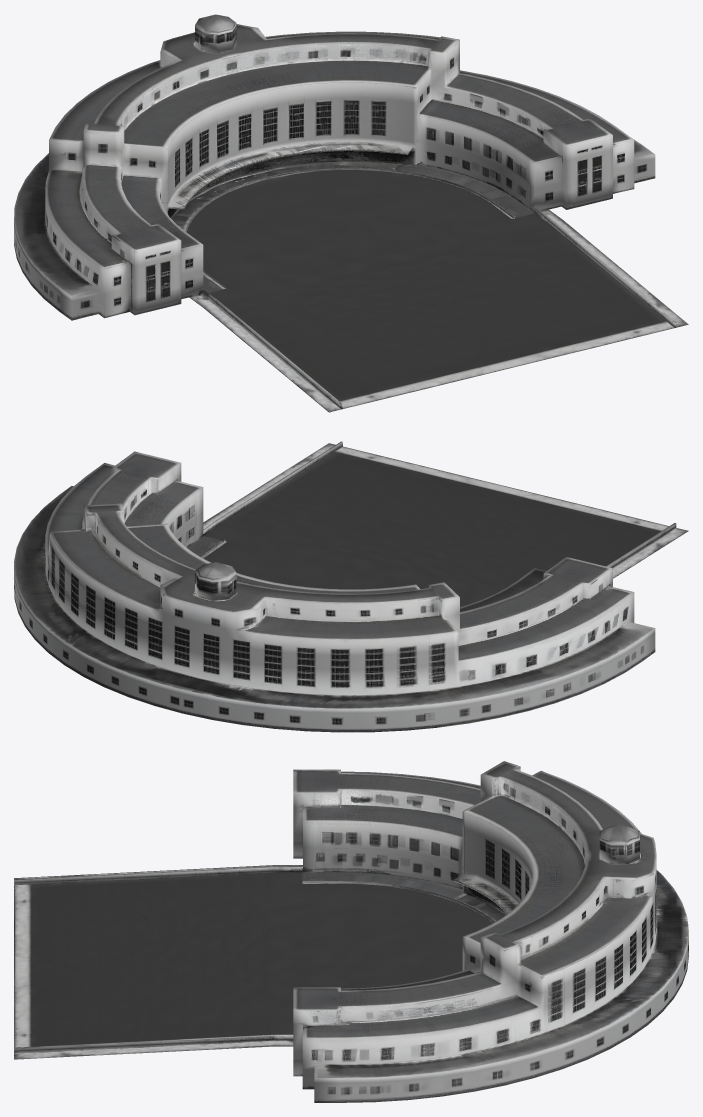
The model's file is Treasure_Island_0130.glb.
3 renders of one model, top to bottom at view 1: azimuth 30°, elevation 25°; view 2: azimuth 150°, elevation 25°; view 3: azimuth 270°, elevation 25°, orthographic. The views are drawn at different scales.
Bounding box in the file's own units: 2 × 0.4844 × 1.94.
Materials: 1 (1 with a texture image).
